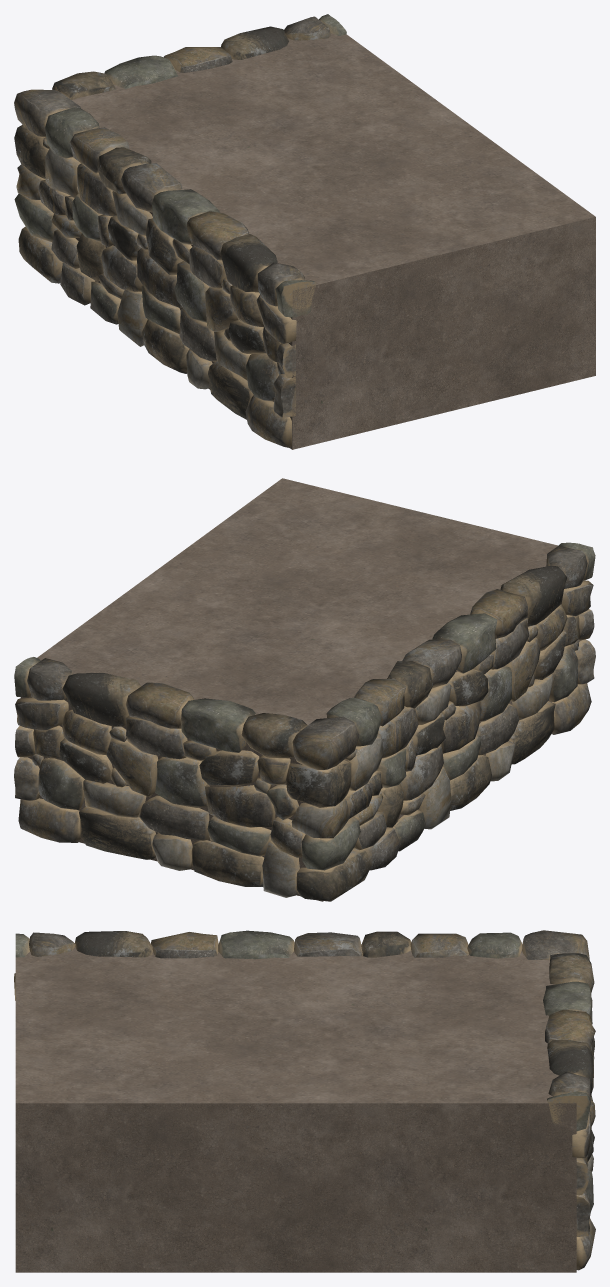
Rendered from SM_Gidan01b.fbx.
3 renders of one model, top to bottom at view 1: azimuth 30°, elevation 25°; view 2: azimuth 150°, elevation 25°; view 3: azimuth 270°, elevation 25°, orthographic. The views are drawn at different scales.
Parts seen in each view (by area): view 1: SM_Gidan01b; view 2: SM_Gidan01b; view 3: SM_Gidan01b.
Part boxes in pixels (box(x1,y1,x2,y2)): SM_Gidan01b: box(14, 14, 595, 449); SM_Gidan01b: box(14, 478, 595, 901); SM_Gidan01b: box(14, 930, 595, 1272).
Bounding box in the file's own units: 211 × 311 × 108.
2 materials, 2 textured.
